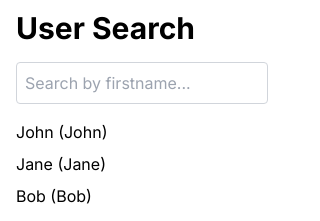
Scenario: Search Integration › filters users based on search input
Type "jo" into the field with placeholder "Search by firstname..." at (142, 83), box [16, 62, 268, 104]
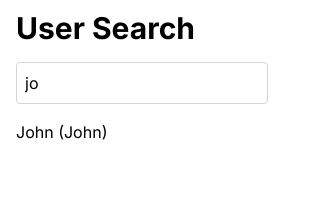
Expected: the link "John (John)" is shown, [16, 122, 108, 142]
Expected: the link "Jane (Jane)" is gone
Expected: the link "Bob (Bob)" is gone
